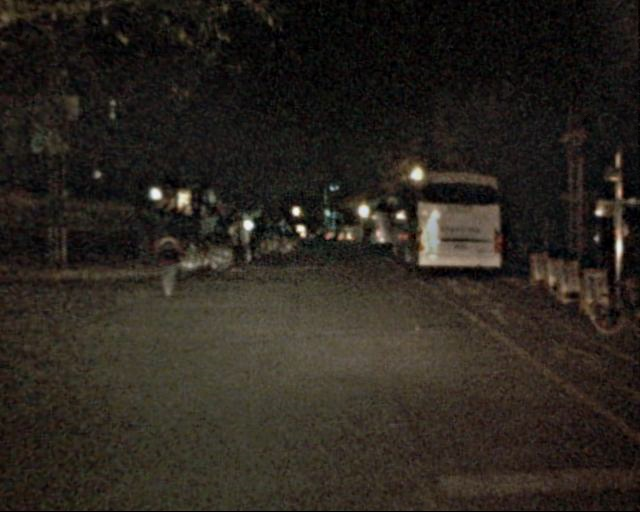person: (152, 218, 185, 298), (226, 216, 250, 274), (352, 223, 377, 258)
